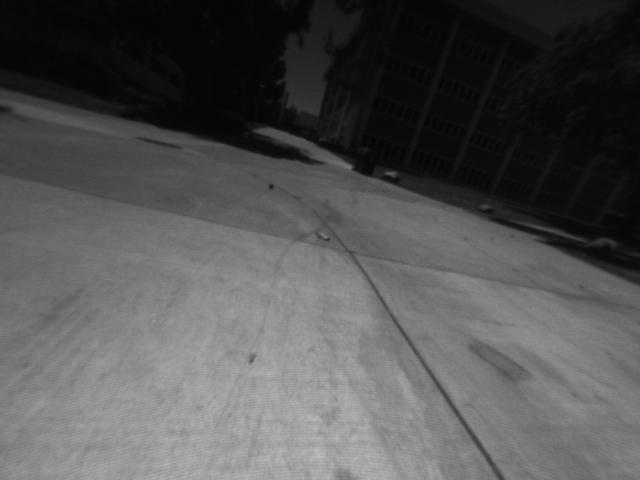dogtoy: (262, 176, 281, 195)
